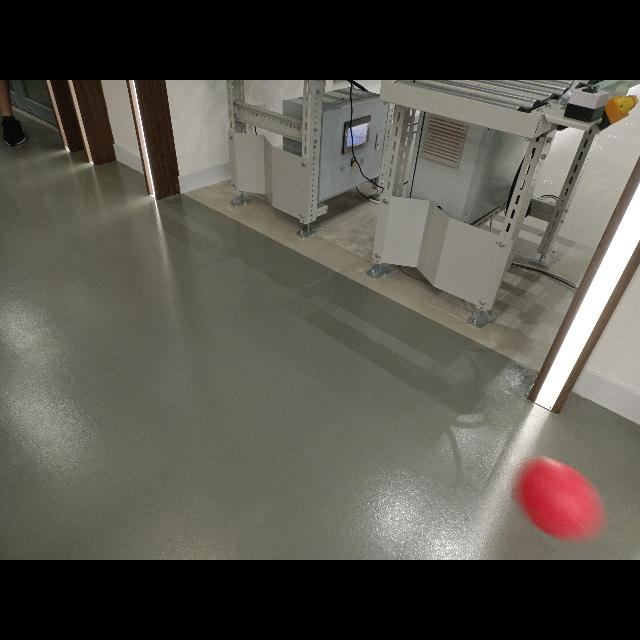R: (512, 456, 604, 540)
